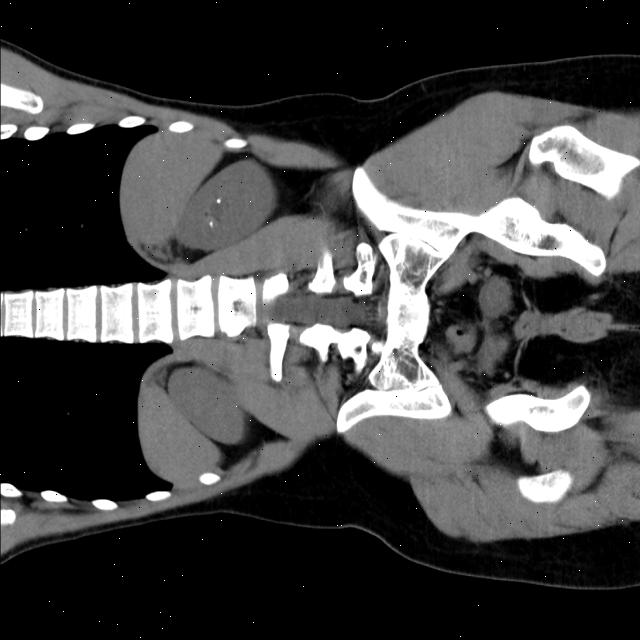kidneystone: (209, 218, 216, 228)
